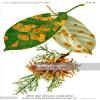Apple rust leaf: (2, 8, 70, 57), (47, 9, 98, 58)
